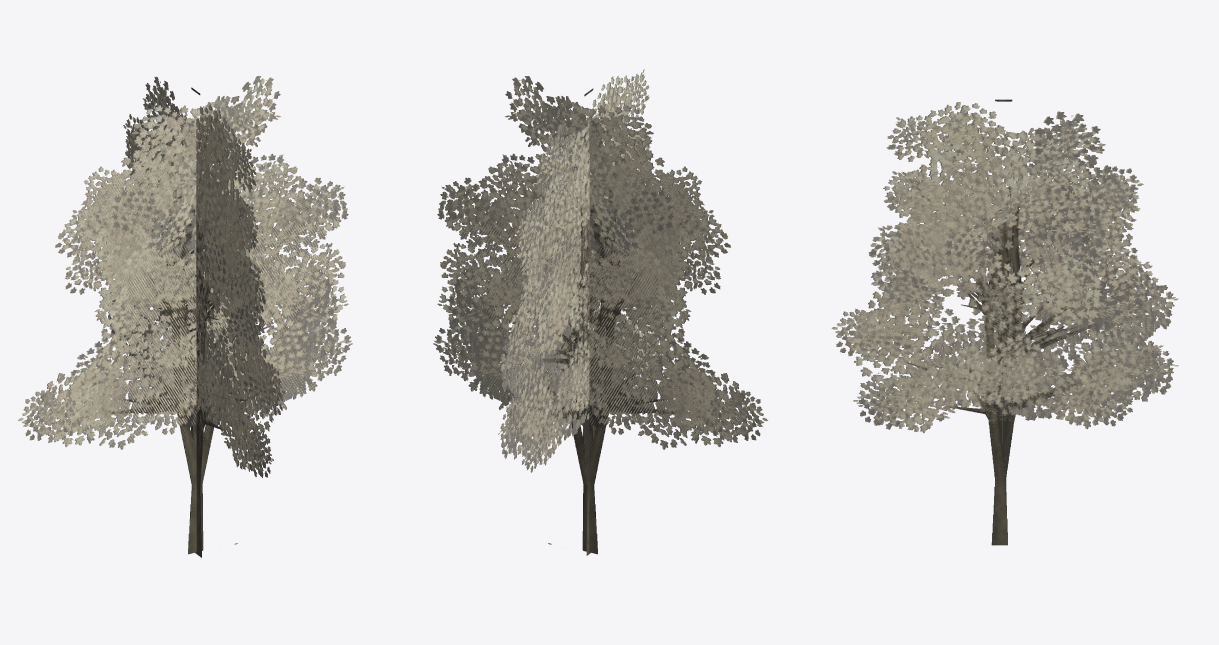
The model's file is SugarMaple_LOD2_v01.fbx.
3 views of the same model, side by side, from view 1: azimuth 30°, elevation 25°; view 2: azimuth 150°, elevation 25°; view 3: azimuth 270°, elevation 25° (orthographic). The views are drawn at different scales.
Parts seen in each view (by area): view 1: Plane; view 2: Plane; view 3: Plane.
Boxes of the visible parts, x1,y1,x2,y2 form: Plane: (18, 76, 352, 557); Plane: (433, 69, 767, 555); Plane: (831, 99, 1178, 545).
Bounding box in the file's own units: 1172 × 1424 × 1172.
